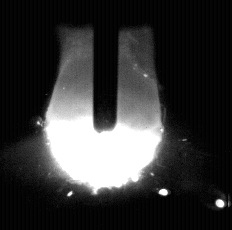arame: (93, 0, 119, 133)
poca: (44, 0, 163, 230)
